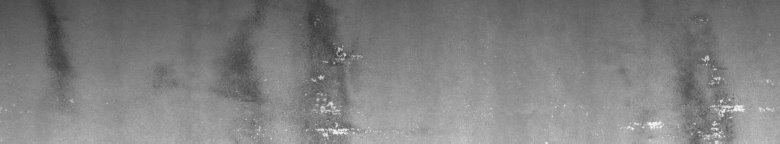hc: (221, 4, 367, 136)
